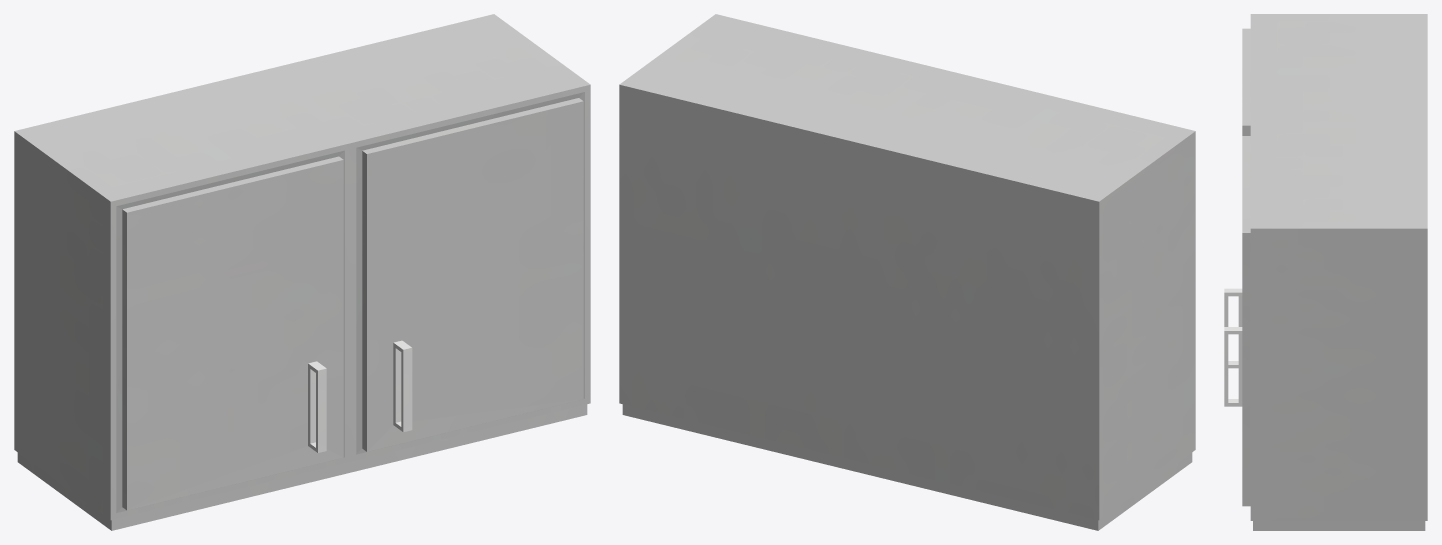
The model's file is cupboard_top.glb.
The picture shows the model from 3 angles, left to right: view 1: azimuth 30°, elevation 25°; view 2: azimuth 150°, elevation 25°; view 3: azimuth 270°, elevation 25°; orthographic projection. The views are drawn at different scales.
Visible parts, largest first — view 1: cupboard_top; view 2: cupboard_top; view 3: cupboard_top.
Part boxes in pixels (x1,y1,x2,y2): cupboard_top: (14, 14, 590, 530); cupboard_top: (619, 14, 1195, 530); cupboard_top: (1224, 14, 1427, 530).
Size of the model in its own units: 0.7538 by 0.4963 by 0.3015.
1 material, 1 textured.
